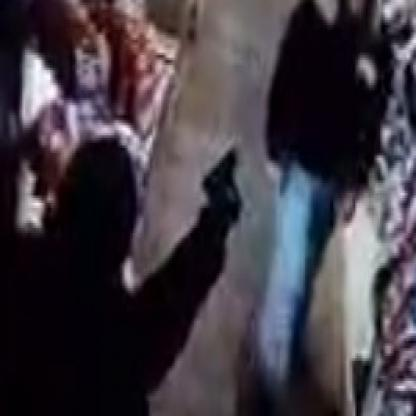gun: (196, 140, 254, 233)
